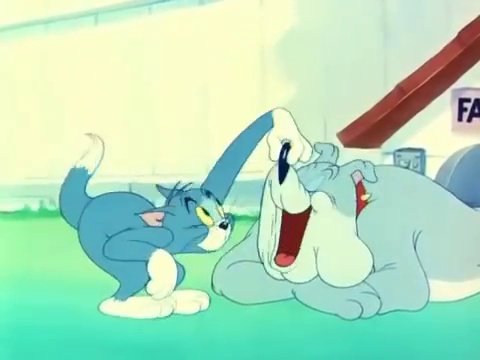tom: (134, 181, 240, 259)
